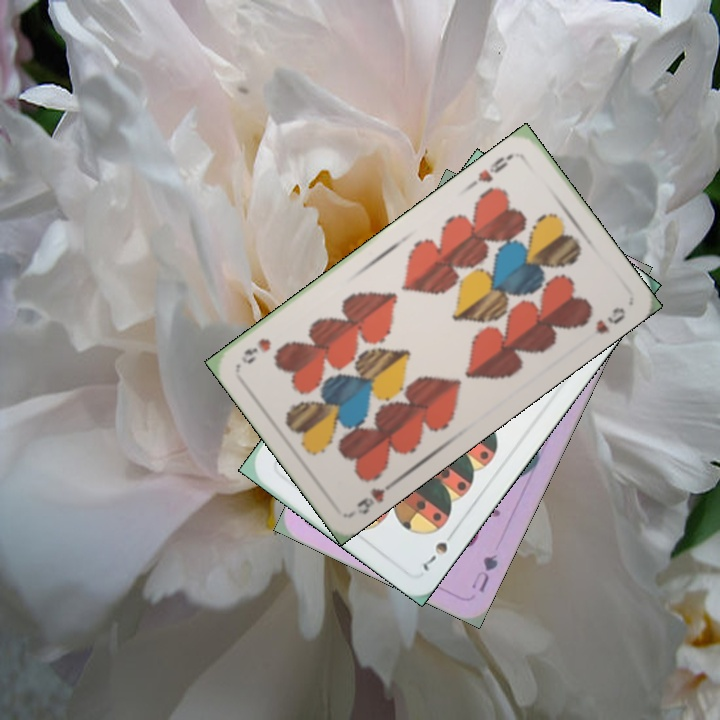GU: (467, 549, 501, 595)
H9: (466, 149, 516, 190), (352, 476, 399, 518)
S7: (419, 537, 451, 573)
